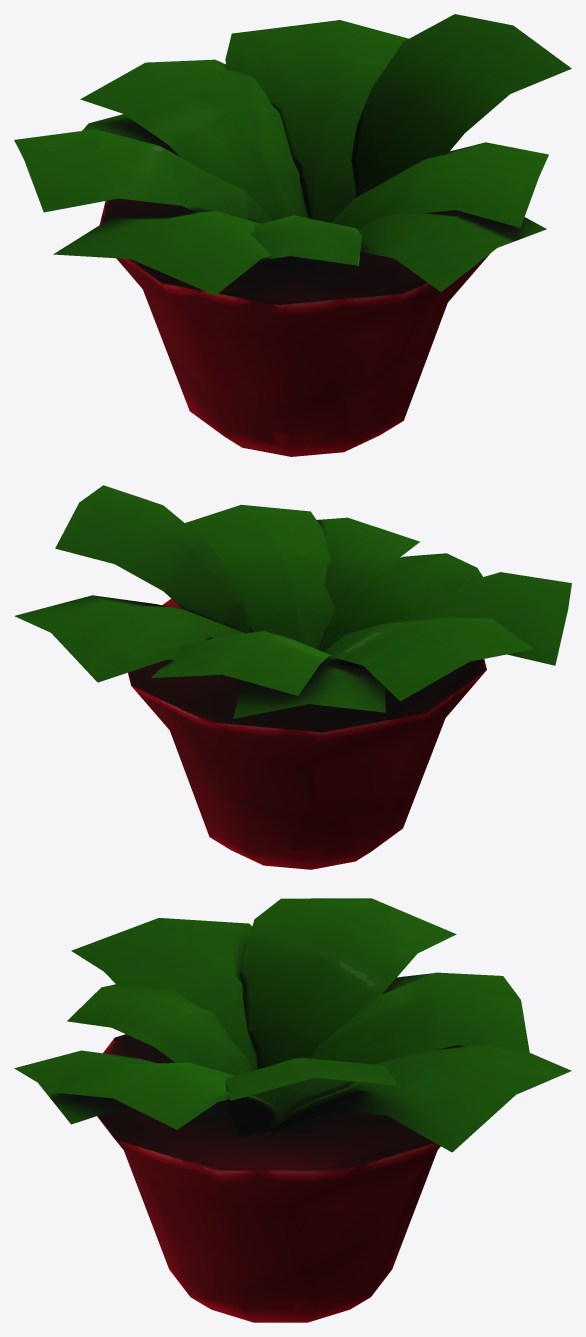
File: RE_PropHousePlant.FBX
3 renders of one model, top to bottom at view 1: azimuth 30°, elevation 25°; view 2: azimuth 150°, elevation 25°; view 3: azimuth 270°, elevation 25°, orthographic. The views are drawn at different scales.
Visible parts, largest first — view 1: RE_PropHousePlant; view 2: RE_PropHousePlant; view 3: RE_PropHousePlant.
Boxes of the visible parts, x1=… form: RE_PropHousePlant: x1=14, y1=14, x2=571, y2=456; RE_PropHousePlant: x1=14, y1=485, x2=571, y2=869; RE_PropHousePlant: x1=14, y1=898, x2=571, y2=1322.
Bounding box in the file's own units: 56.69 × 34.68 × 54.58.
Materials: 2 (2 with a texture image).
